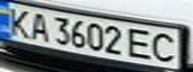0: (84, 20, 106, 53)
2: (103, 22, 127, 56)
3: (48, 15, 72, 46)
6: (66, 18, 87, 51)
A: (24, 10, 51, 43)
C: (148, 30, 181, 64)
E: (124, 26, 157, 61)
K: (3, 4, 33, 38)
